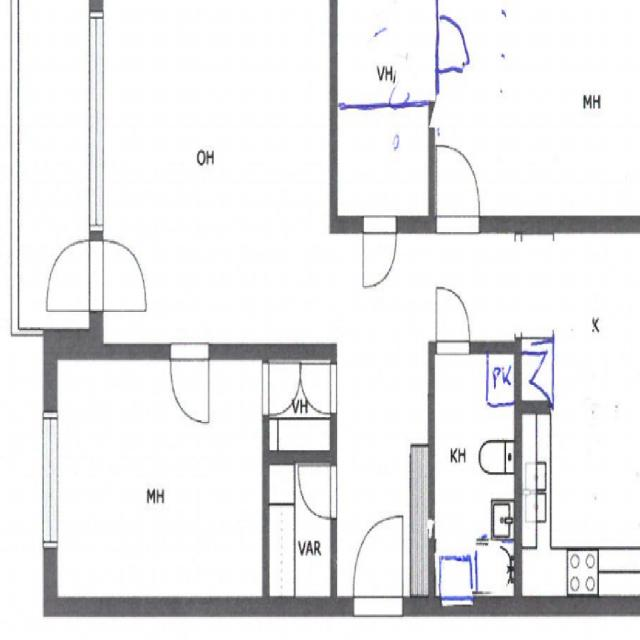door: (354, 520, 402, 616), (46, 240, 104, 311), (90, 240, 147, 311), (439, 147, 481, 231), (170, 343, 210, 424), (428, 11, 471, 70), (363, 215, 396, 285), (436, 285, 470, 352), (299, 466, 337, 516), (262, 364, 299, 414), (301, 365, 337, 412)
